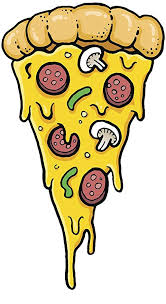pizza: (3, 15, 158, 286)
